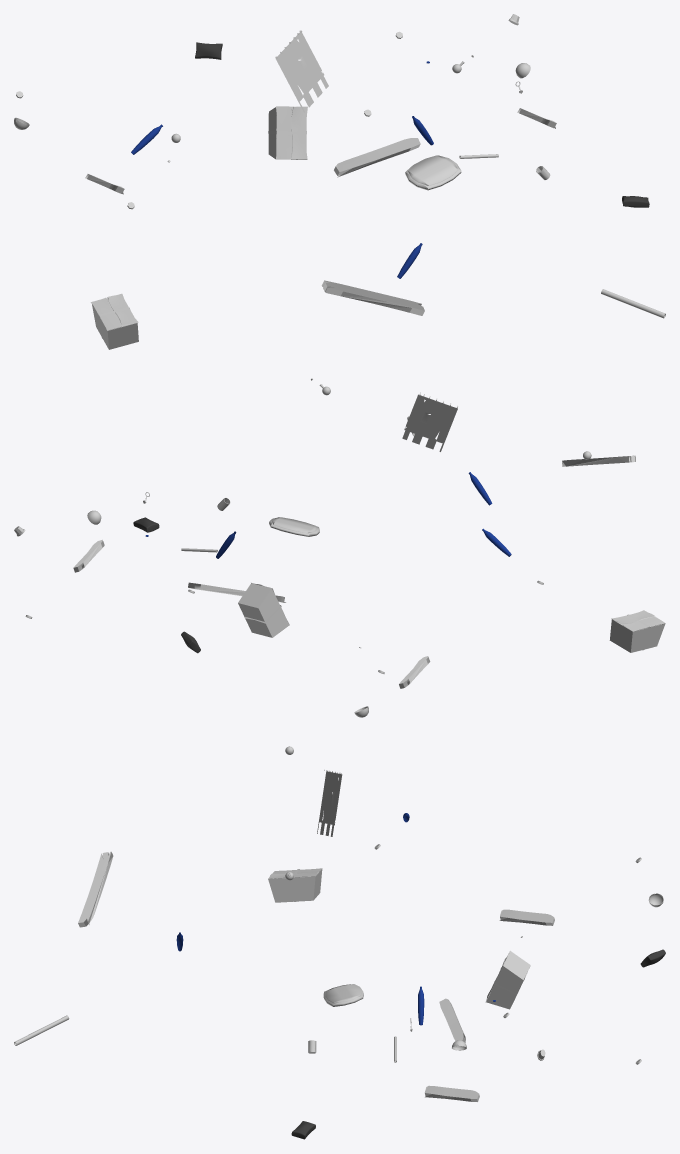
File: basura.fbx
The picture shows the model from 3 angles, top to bottom: view 1: azimuth 30°, elevation 25°; view 2: azimuth 150°, elevation 25°; view 3: azimuth 270°, elevation 25°; orthographic projection. The views are drawn at different scales.
Parts seen in each view (by area): view 1: tela, caja, caja001, tablon de madera 2, tablon de madera, Object003; view 2: tela, caja, caja001, tablon de madera 2; view 3: caja001, caja, tela, tablon de madera 2, tablon de madera002, tablon de madera001.
Part boxes in pixels (x1,y1,x2,y2): tela: (275,30,328,112); caja: (268,106,307,159); caja001: (91,293,138,349); tablon de madera 2: (321,280,424,315); tablon de madera: (334,138,420,177); Object003: (408,156,458,185); tela: (402,392,458,451); caja: (238,582,289,637); caja001: (609,610,665,652); tablon de madera 2: (562,455,635,466); caja001: (268,868,322,902); caja: (485,950,530,1009); tela: (317,770,342,836); tablon de madera 2: (78,851,113,927); tablon de madera002: (499,909,554,925); tablon de madera001: (424,1085,479,1101).
Bounding box in the file's own units: 407 × 169 × 447.
